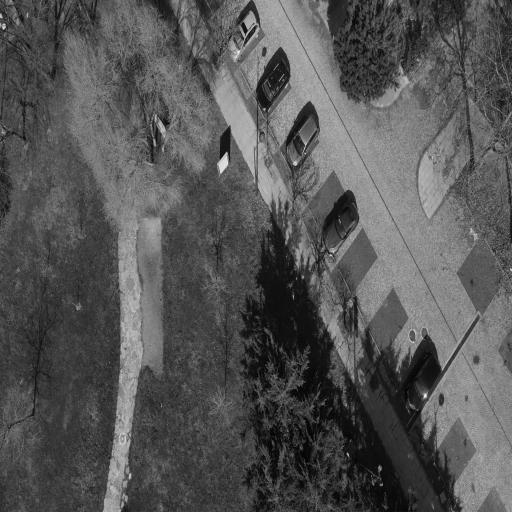person: (407, 353, 441, 411), (322, 202, 359, 255), (256, 59, 290, 112), (287, 114, 319, 167), (228, 11, 259, 61)
